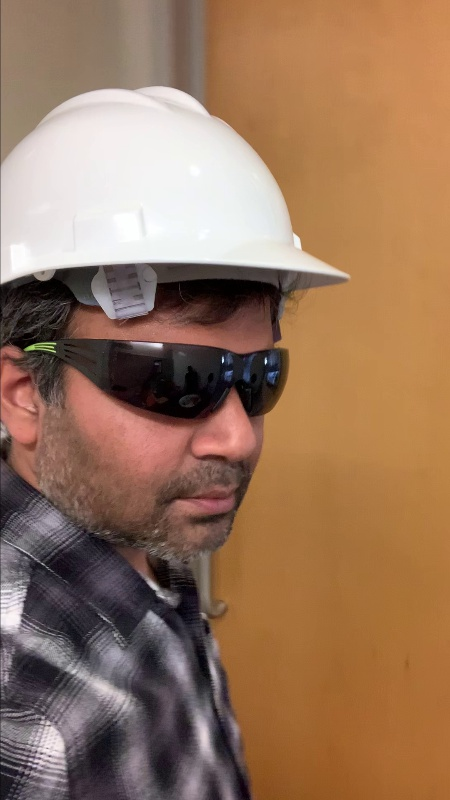glasses: (65, 334, 288, 422)
helmet: (10, 85, 322, 270)
